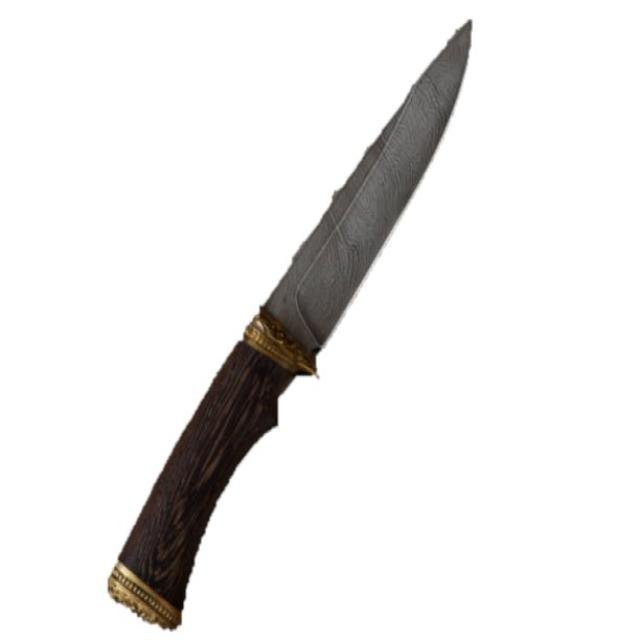knife: (92, 13, 512, 640)
